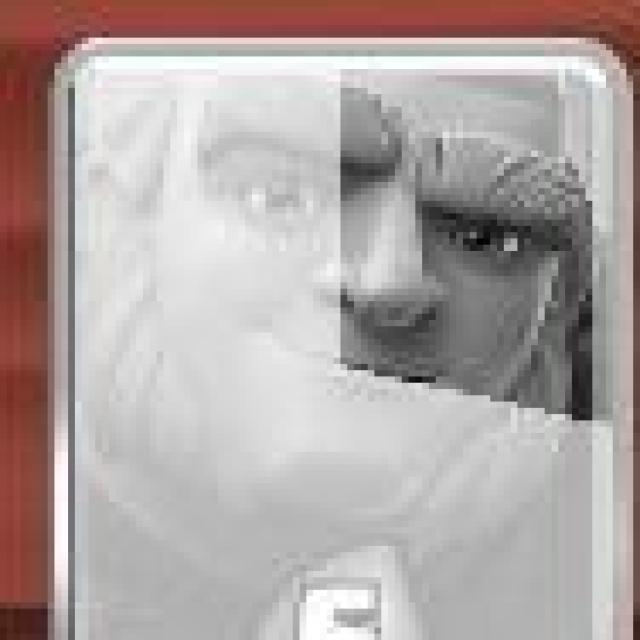Giant: (51, 42, 626, 640)
